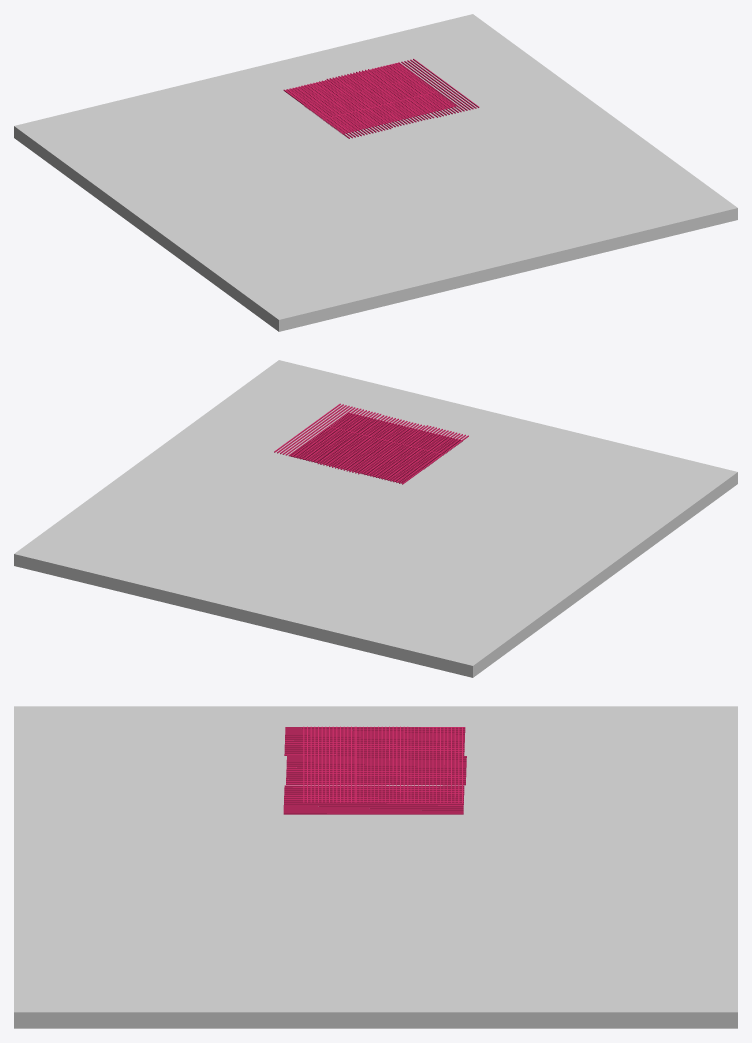
File: shadow_stresstest.glb
3 views of the same model, one above another, from view 1: azimuth 30°, elevation 25°; view 2: azimuth 150°, elevation 25°; view 3: azimuth 270°, elevation 25° (orthographic). The views are drawn at different scales.
Visible parts, largest first — view 1: Cube, Cube.004, Cube.002, Cube.006, Cube.003, Cube.001, Cube.005; view 2: Cube, Cube.002, Cube.003, Cube.006, Cube.004, Cube.001, Cube.005; view 3: Cube, Cube.006, Cube.005, Cube.001, Cube.004, Cube.003, Cube.002.
Boxes of the visible parts, <box> form: Cube: <box>14,14,737,331</box>; Cube.004: <box>323,91,456,134</box>; Cube.002: <box>284,62,417,104</box>; Cube.006: <box>372,58,479,117</box>; Cube.003: <box>304,77,436,119</box>; Cube.001: <box>283,80,391,138</box>; Cube.005: <box>326,69,434,127</box>; Cube: <box>14,360,737,677</box>; Cube.002: <box>289,441,421,483</box>; Cube.003: <box>310,426,443,469</box>; Cube.006: <box>274,403,381,462</box>; Cube.004: <box>330,412,462,455</box>; Cube.001: <box>361,425,468,484</box>; Cube.005: <box>317,415,424,474</box>; Cube: <box>14,706,737,1028</box>; Cube.006: <box>283,785,464,814</box>; Cube.005: <box>286,755,466,785</box>; Cube.001: <box>284,727,465,755</box>; Cube.004: <box>303,726,355,802</box>; Cube.003: <box>356,726,408,802</box>; Cube.002: <box>410,727,462,802</box>.
Size of the model in its own units: 100 by 16.67 by 100.
